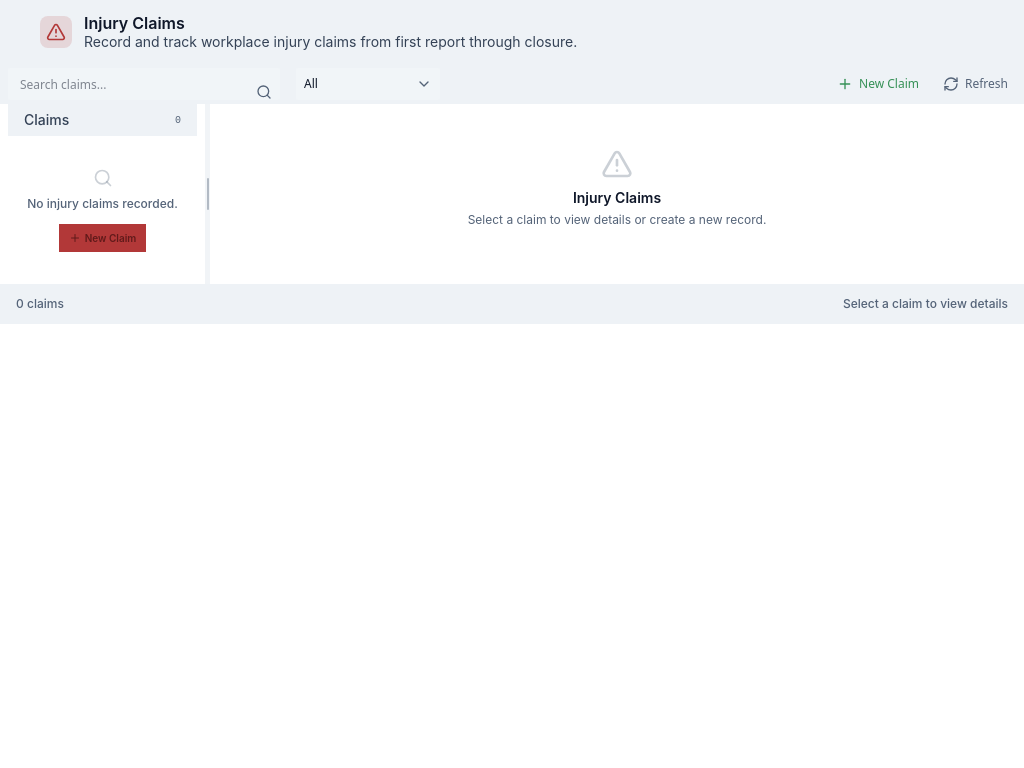
Scenario: SafetyInjuryClaimsPage - Empty State › transitions to create mode when a New Claim button is clicked
Click the 1st button "New Claim" at (878, 84), box [829,68,927,100]
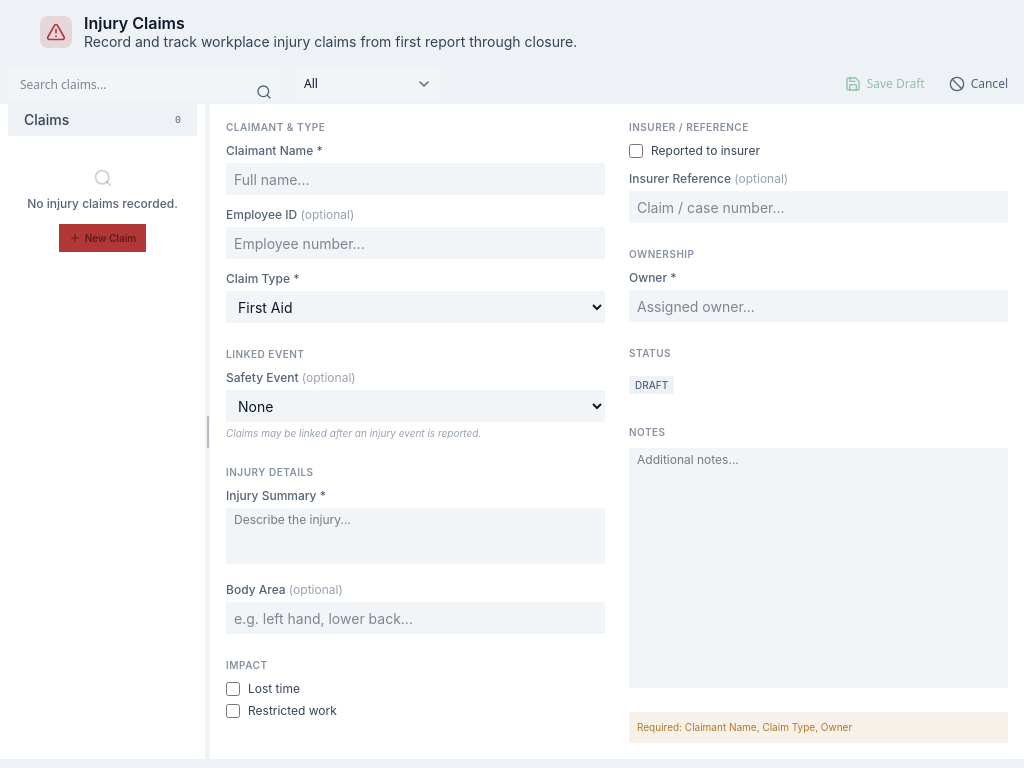
Expected: the text "Save Draft" is shown, [867,76,925,92]
Expected: the field with placeholder "Full name..." is shown, [226,163,605,195]
